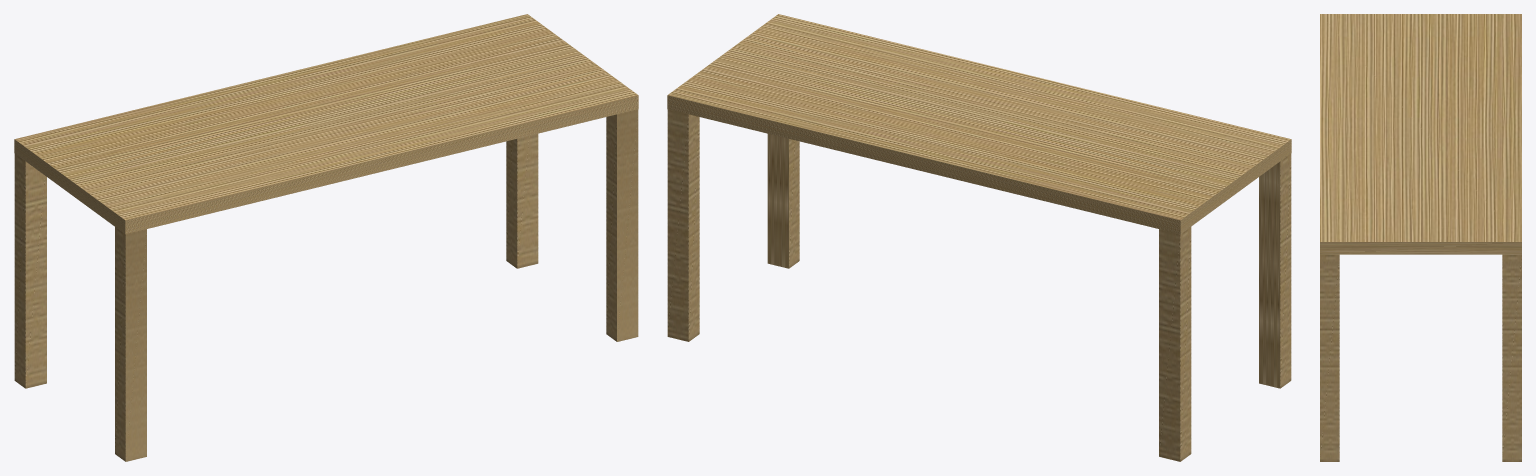
File: Table.fbx
The picture shows the model from 3 angles, left to right: view 1: azimuth 30°, elevation 25°; view 2: azimuth 150°, elevation 25°; view 3: azimuth 270°, elevation 25°; orthographic projection. The views are drawn at different scales.
Parts seen in each view (by area): view 1: pCube1, pCube6, pCube4, pCube5, pCube7; view 2: pCube1, pCube5, pCube7, pCube4, pCube6; view 3: pCube1, pCube6, pCube7.
Boxes of the visible parts, x1,y1,x2,y2 form: pCube1: (14, 14, 638, 234); pCube6: (606, 109, 638, 341); pCube4: (115, 227, 146, 461); pCube5: (14, 153, 46, 388); pCube7: (506, 133, 538, 268); pCube1: (667, 14, 1291, 234); pCube5: (1159, 227, 1191, 461); pCube7: (667, 109, 699, 341); pCube4: (1259, 153, 1291, 388); pCube6: (767, 133, 799, 268); pCube1: (1320, 14, 1521, 254); pCube6: (1320, 254, 1339, 461); pCube7: (1502, 254, 1521, 461).
Bounding box in the file's own units: 7.57 × 3.41 × 2.84.
1 material, 1 textured.
